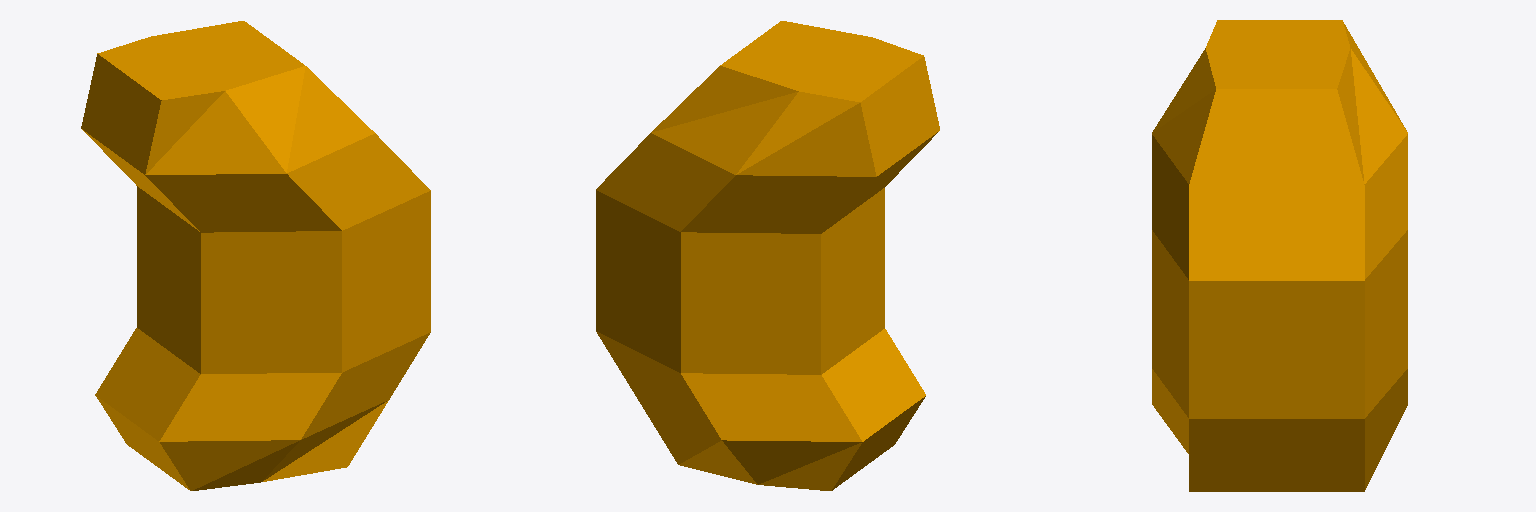
The robot description file, URDF, robot "washedblackBean":
<?xml version="1.0"?>
<robot name="washedblackBean">
  <link name="bean">
    <inertial>
        <origin rpy="0 0 0" xyz="0 0 0"/>
        <mass value="0.01"/>
        <inertia ixx="4.4e-5" ixy="0" ixz="0" iyy="0" iyz="0" izz="4.4e-5"/>
    </inertial>
    <visual>
      <geometry>
        <mesh filename="WashedBlackBean.obj"/>
      </geometry>
    </visual>
    <collision>
      <geometry>
        <mesh filename="BlackBeanCollider.obj"/>
      </geometry>
      <surface>
           <bounce restitution_coefficient = "0.1"/>
      </surface>
    </collision>
  </link>
</robot>

--- Render facts (derived) ---
3 views of the same robot in one strip: view 1: azimuth 30°, elevation 25°; view 2: azimuth 150°, elevation 25°; view 3: azimuth 270°, elevation 25° (orthographic).
Robot: washedblackBean — 1 links, 0 joints (none); root link bean; default pose: every joint at zero.
Visible links, largest first — view 1: bean; view 2: bean; view 3: bean.
Boxes of the visible links, box(x1,y1,x2,y2) form: bean: box(81, 21, 430, 490); bean: box(596, 21, 939, 490); bean: box(1152, 20, 1407, 491).
Size in the robot's own frame: 0.0168 by 0.0141 by 0.0235 metres.
Meshes: 1 distinct files referenced, 1 mesh visuals loaded (1 OBJ).
